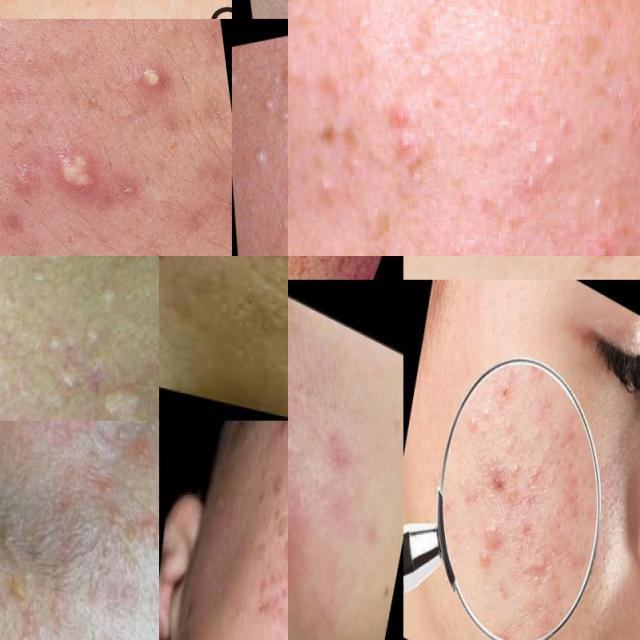acne_scars: (519, 553, 549, 607), (522, 459, 542, 510), (482, 464, 506, 499)
comedone: (222, 278, 264, 340), (270, 258, 288, 338), (463, 406, 481, 452), (475, 399, 496, 433), (508, 450, 523, 491), (497, 409, 515, 443), (524, 417, 542, 449), (21, 52, 39, 75), (546, 464, 558, 492)
cystic: (288, 459, 309, 586)
flat_wart: (255, 529, 288, 640), (53, 354, 84, 398), (0, 319, 15, 376)
milium: (95, 376, 141, 415), (253, 140, 271, 173), (260, 91, 279, 121), (279, 99, 288, 145), (278, 60, 288, 95)
papule: (471, 538, 496, 582)
pustule: (132, 53, 167, 117)
sebo-crystan-conglo: (56, 144, 100, 203)
